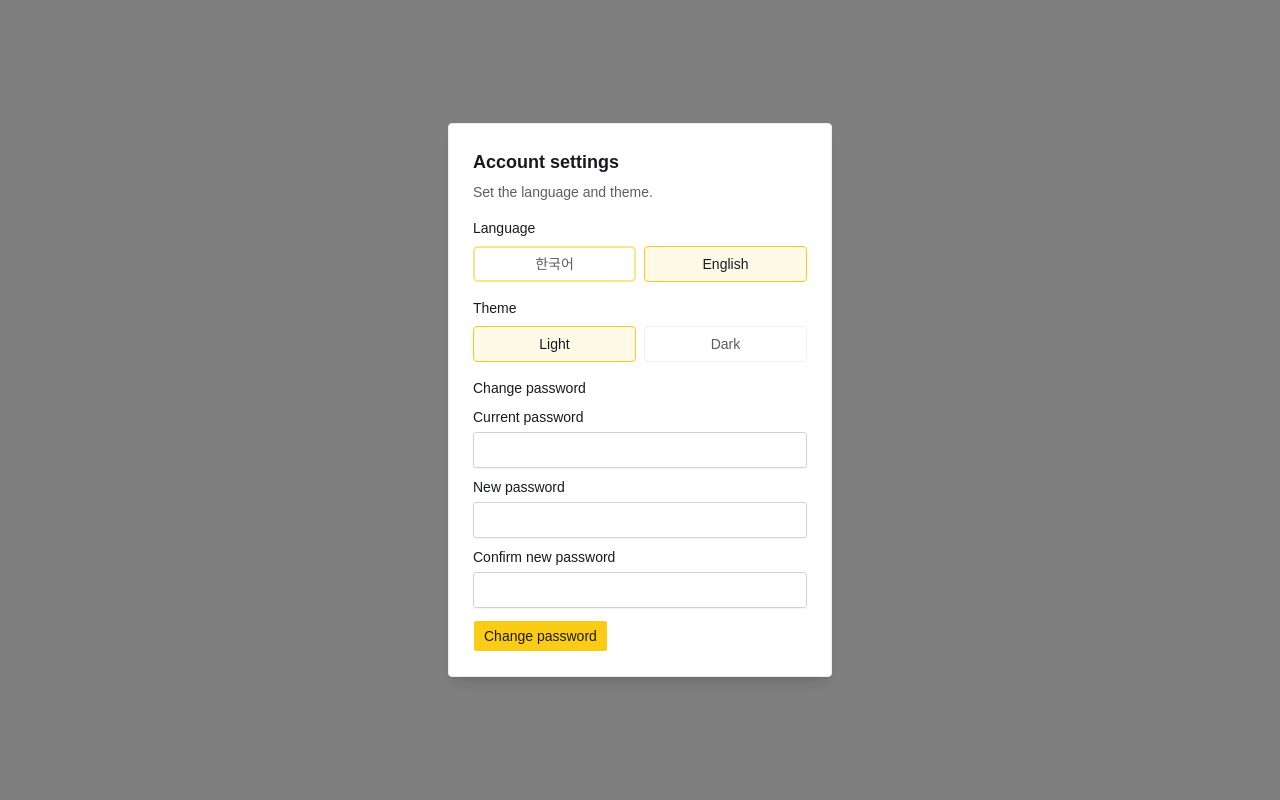
Test: AccountSettingsDialog — password change section › shows an error when the new password is too short
Type "current123" into the password field with test id "account-current-password-input" at point(640, 450), box top-left (473, 432), bottom-right (807, 468)
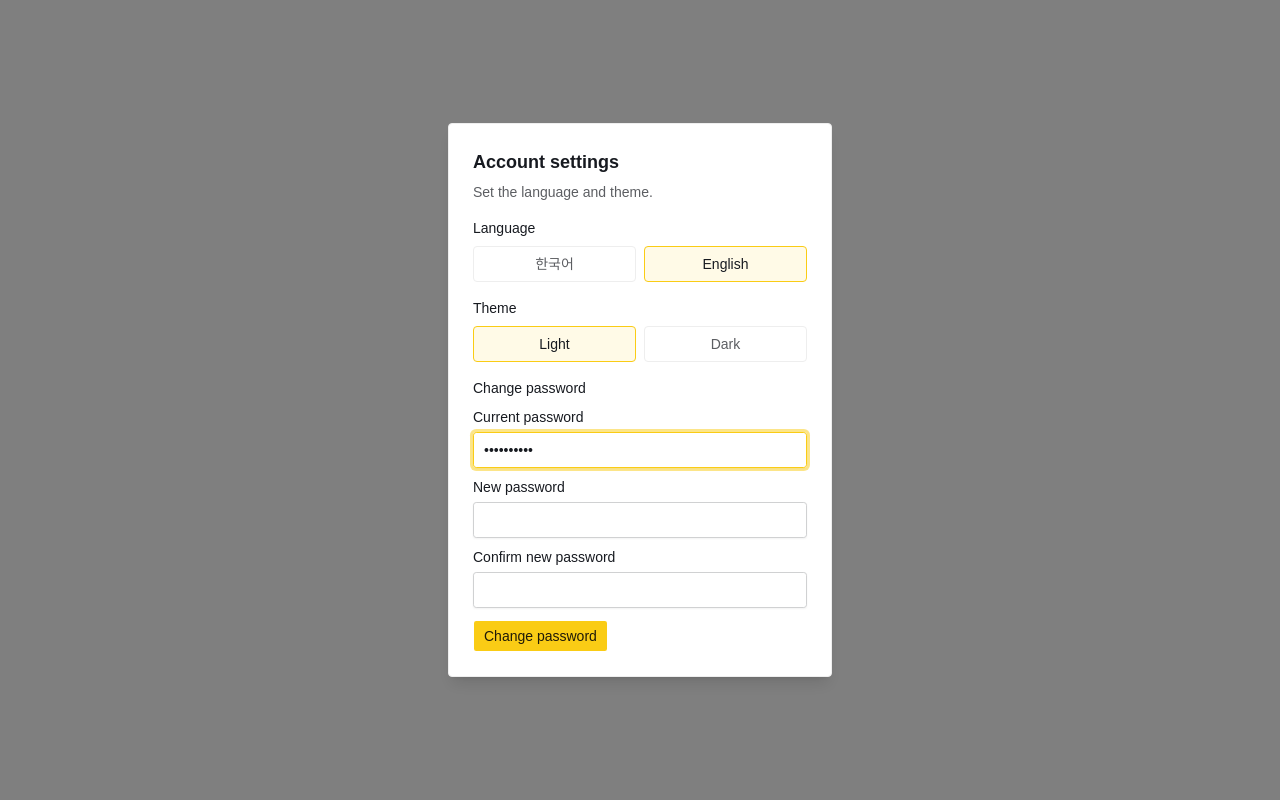
Type "short" into the password field with test id "account-new-password-input" at point(640, 520), box top-left (473, 502), bottom-right (807, 538)
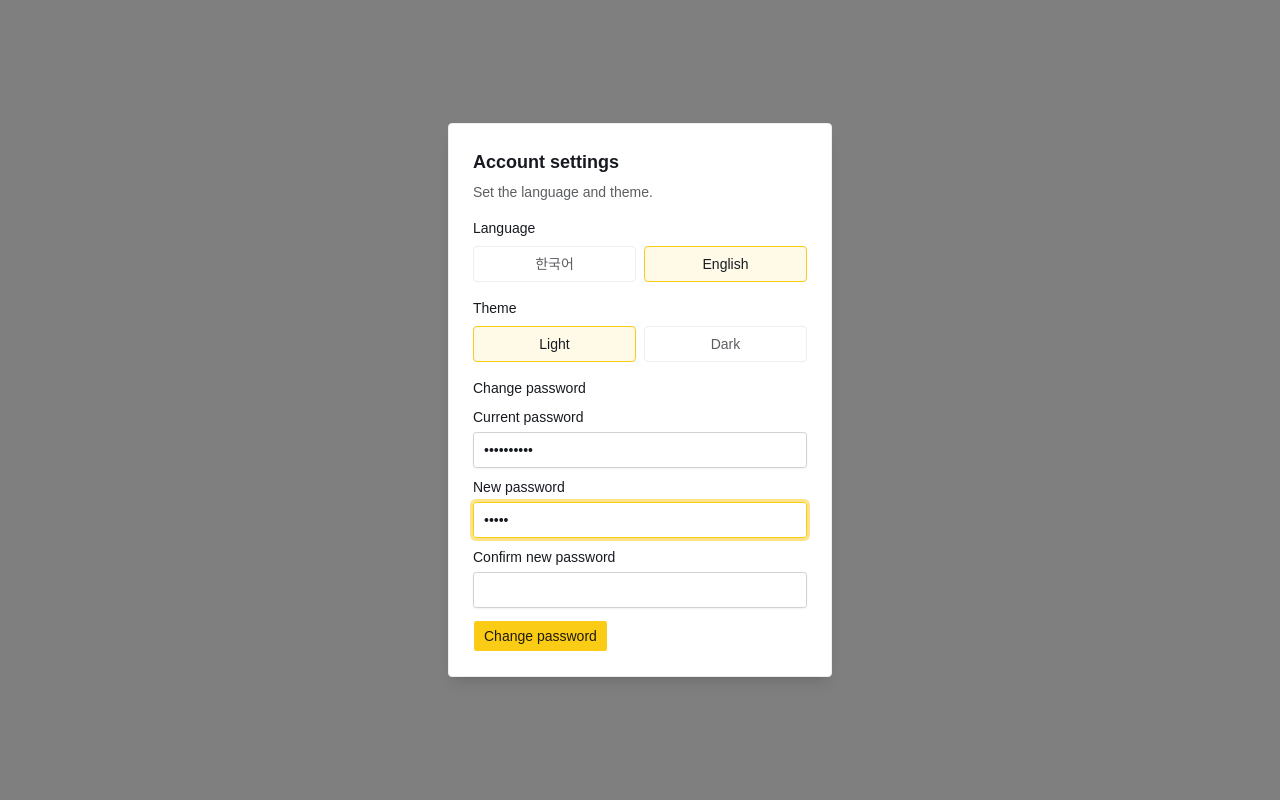
Type "short" into the password field with test id "account-confirm-password-input" at point(640, 590), box top-left (473, 572), bottom-right (807, 608)
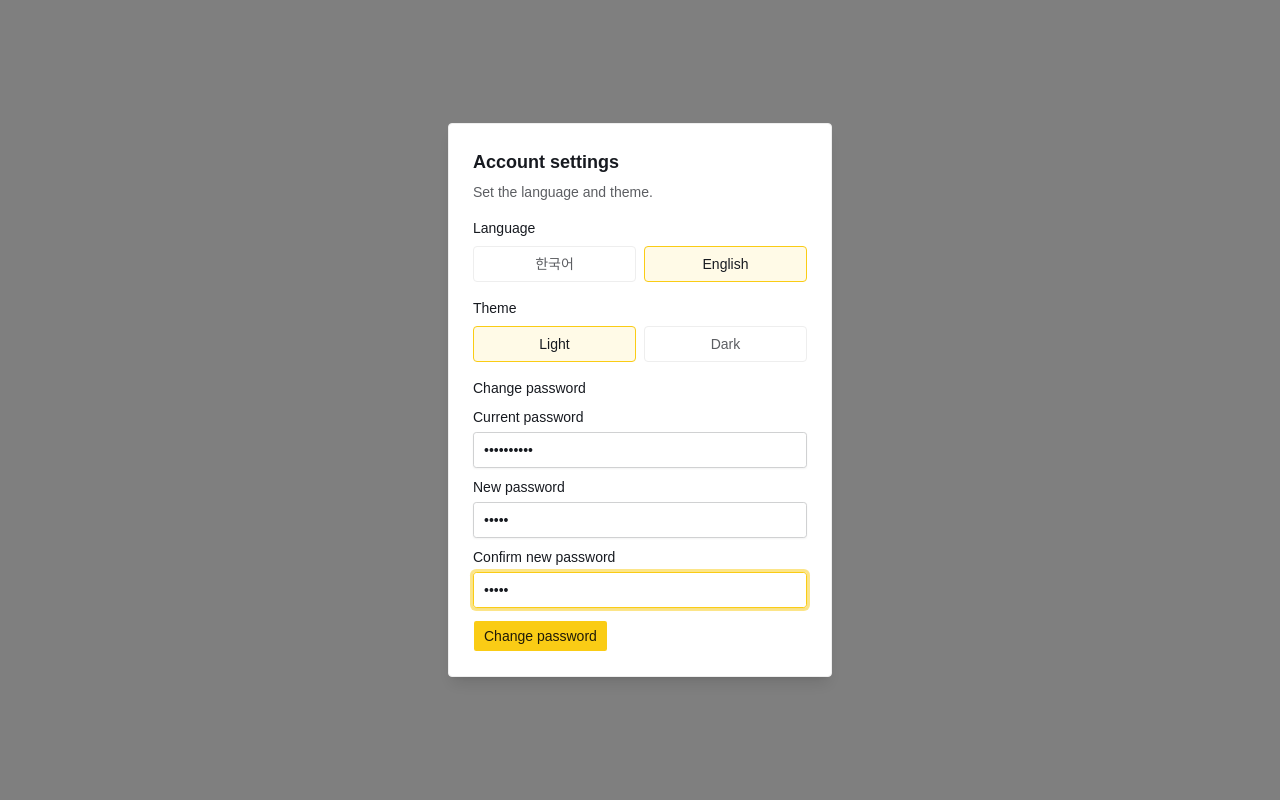
Click the button with test id "account-change-password-submit" at point(540, 636), box top-left (473, 620), bottom-right (608, 652)
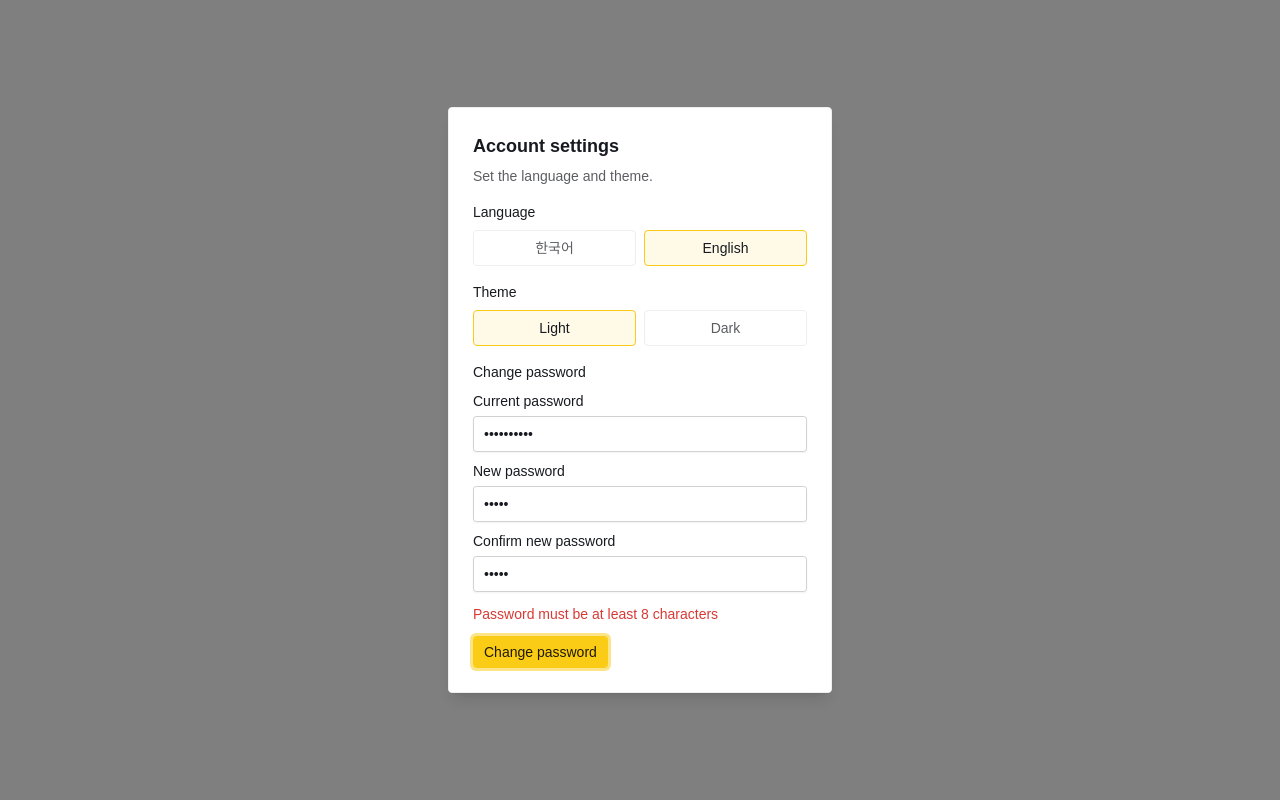
Expected: the text "Password must be at least 8 characters" is shown, top-left (473, 606), bottom-right (718, 622)
